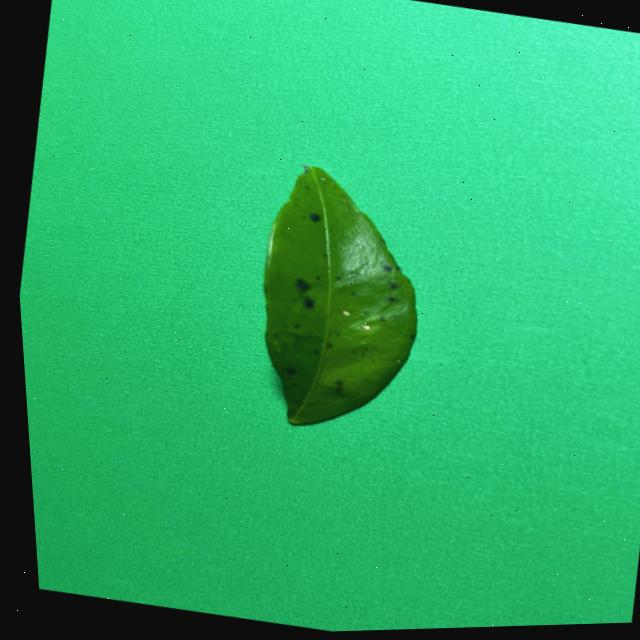sooty_mold: (264, 165, 416, 424)
